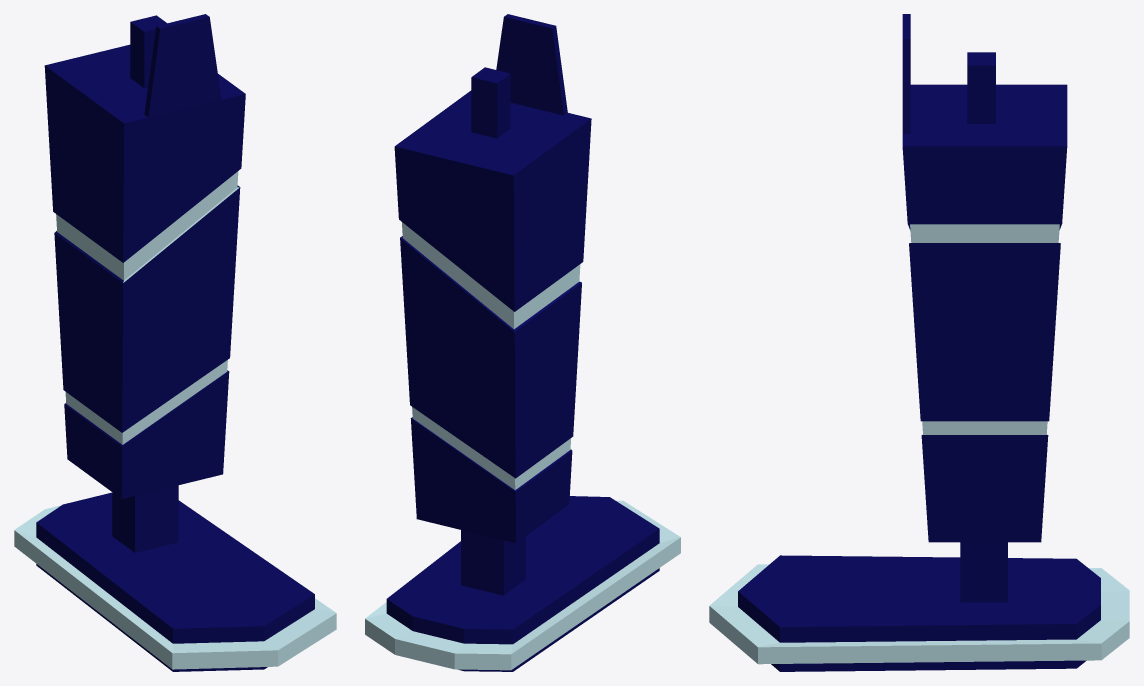
The model's file is foot.fbx.
3 views of the same model, side by side, from view 1: azimuth 30°, elevation 25°; view 2: azimuth 150°, elevation 25°; view 3: azimuth 270°, elevation 25° (orthographic). The views are drawn at different scales.
Parts seen in each view (by area): view 1: leg1.002; view 2: leg1.002; view 3: leg1.002.
Boxes of the visible parts, x1=… form: leg1.002: x1=14, y1=14, x2=336, y2=671; leg1.002: x1=365, y1=14, x2=680, y2=671; leg1.002: x1=709, y1=14, x2=1129, y2=671.
Bounding box in the file's own units: 0.07 × 0.2396 × 0.1497.
